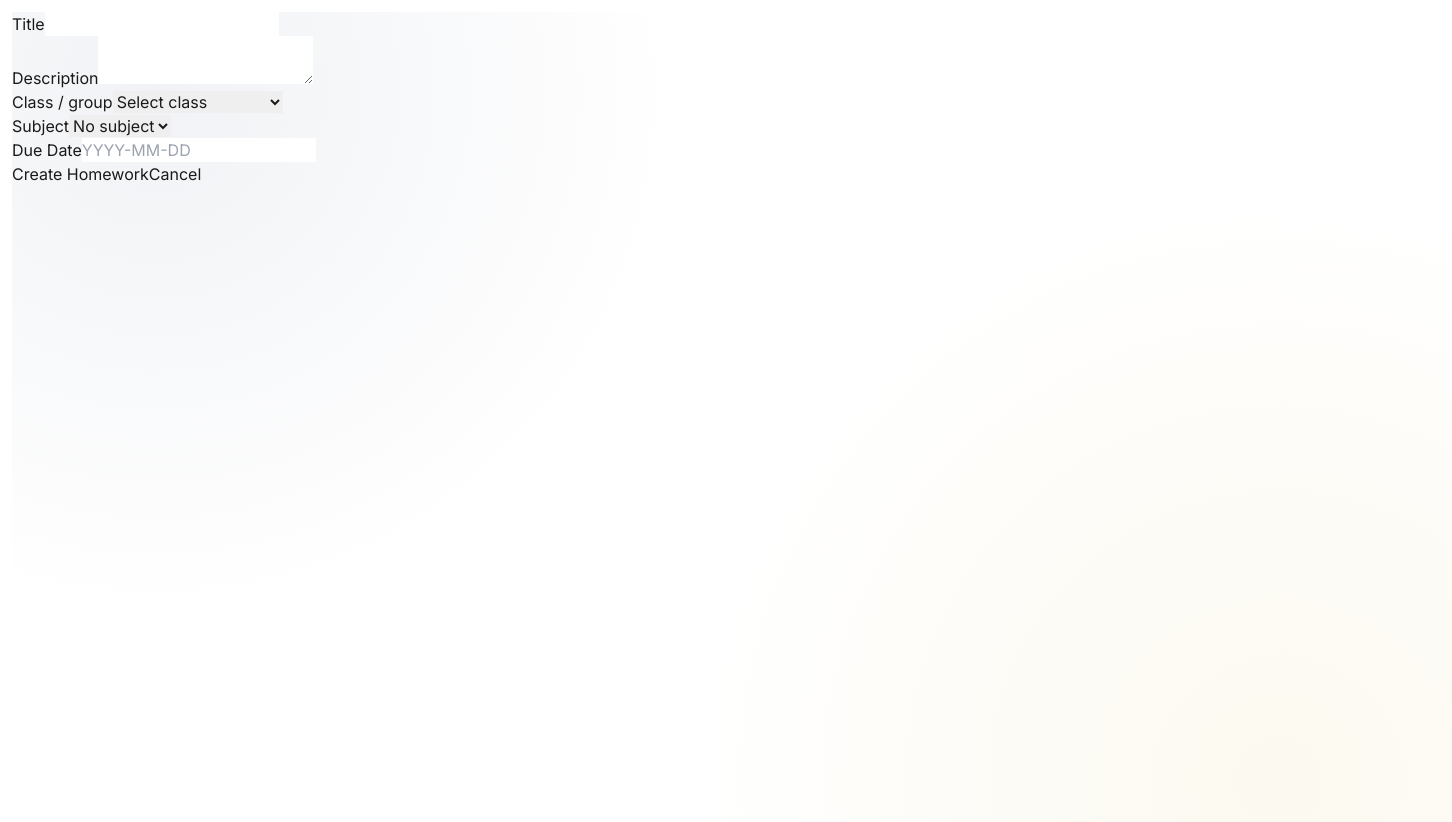
Test case: HomeworkForm › shows validation errors on empty submit
Click the button "Create Homework" at (80, 174), box left=12, top=162, right=149, bottom=186
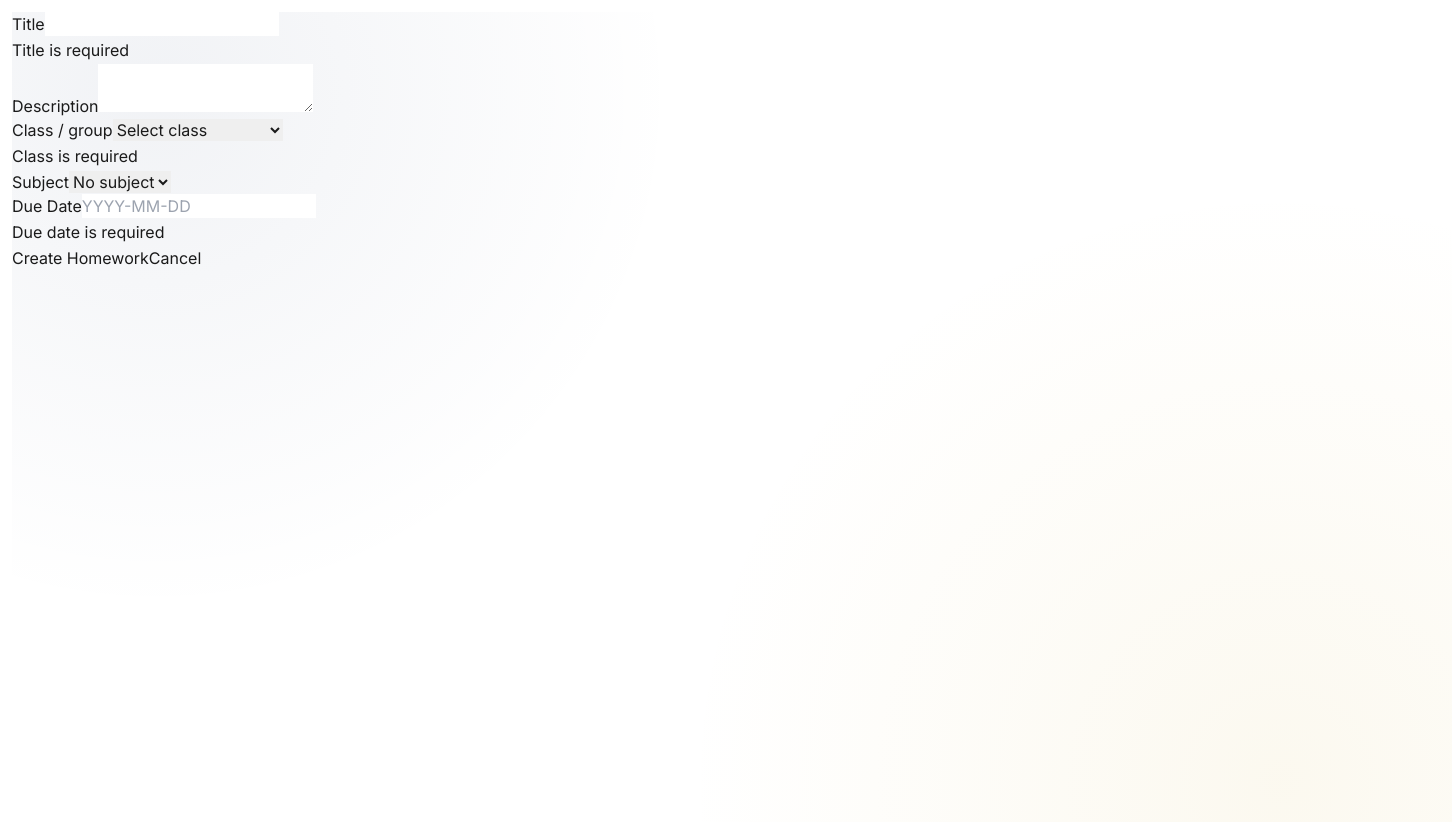
Expected: the text "Title is required" is shown, left=12, top=40, right=129, bottom=60
Expected: the text "Class is required" is shown, left=12, top=146, right=138, bottom=166
Expected: the text "Due date is required" is shown, left=12, top=222, right=164, bottom=242
